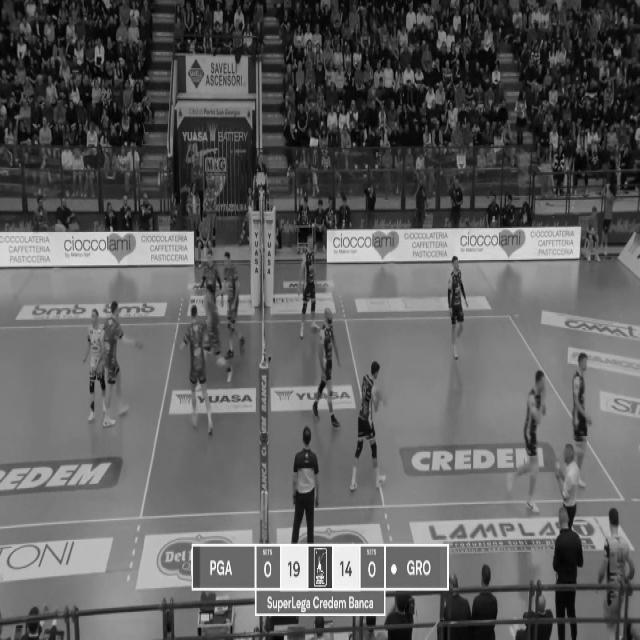volleyball court: (0, 311, 628, 524)
